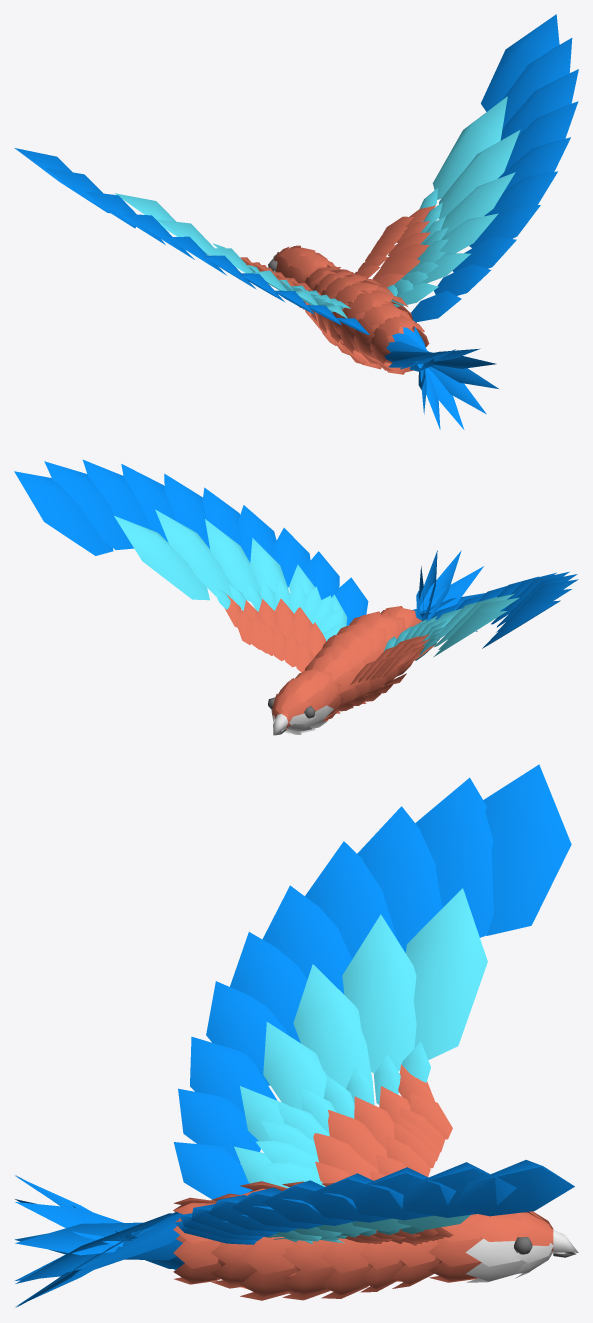
Rendered from bird.gltf.
The picture shows the model from 3 angles, top to bottom: view 1: azimuth 30°, elevation 25°; view 2: azimuth 150°, elevation 25°; view 3: azimuth 270°, elevation 25°; orthographic projection. The views are drawn at different scales.
Visible parts, largest first — view 1: Parrot; view 2: Parrot; view 3: Parrot.
Part boxes in pixels (x1,y1,x2,y2): Parrot: [14, 14, 578, 429]; Parrot: [14, 459, 578, 735]; Parrot: [15, 764, 578, 1307].
Size of the model in its own units: 37.07 by 14.56 by 22.03.
